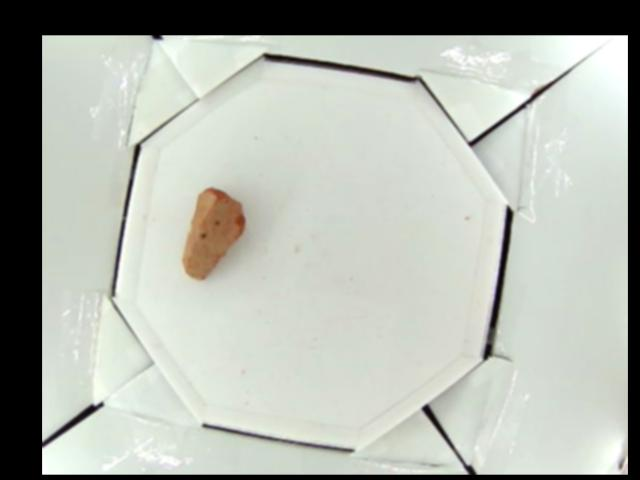Brisk: (179, 186, 247, 282)
